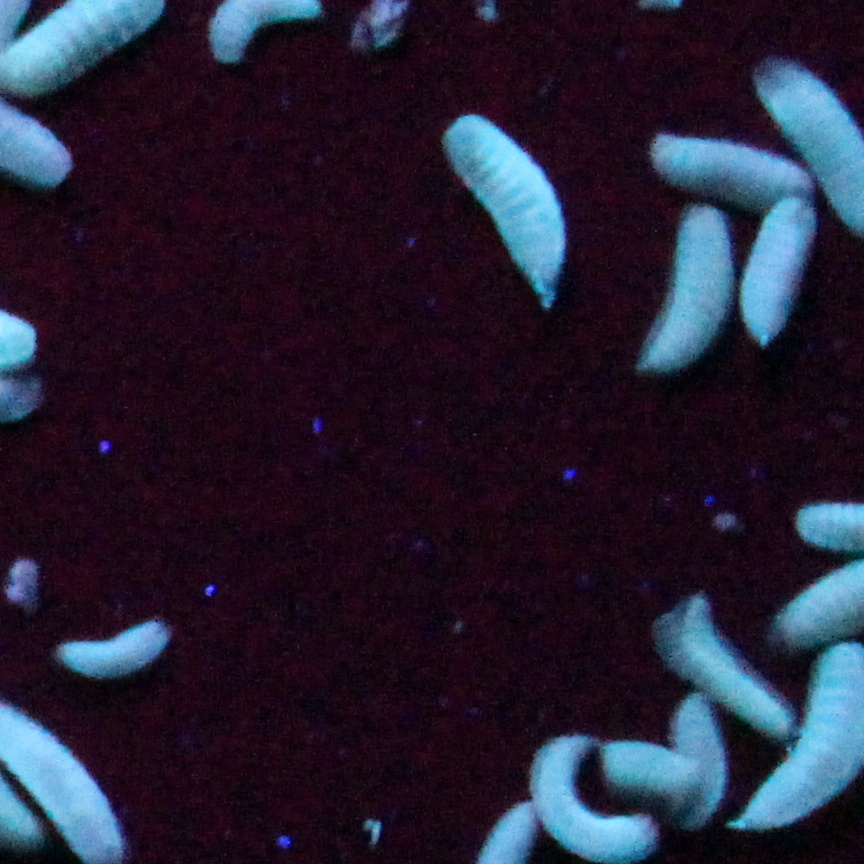larve: (440, 104, 574, 304), (667, 610, 800, 744), (640, 210, 734, 364), (647, 129, 818, 210), (734, 710, 840, 837), (53, 613, 173, 677)
